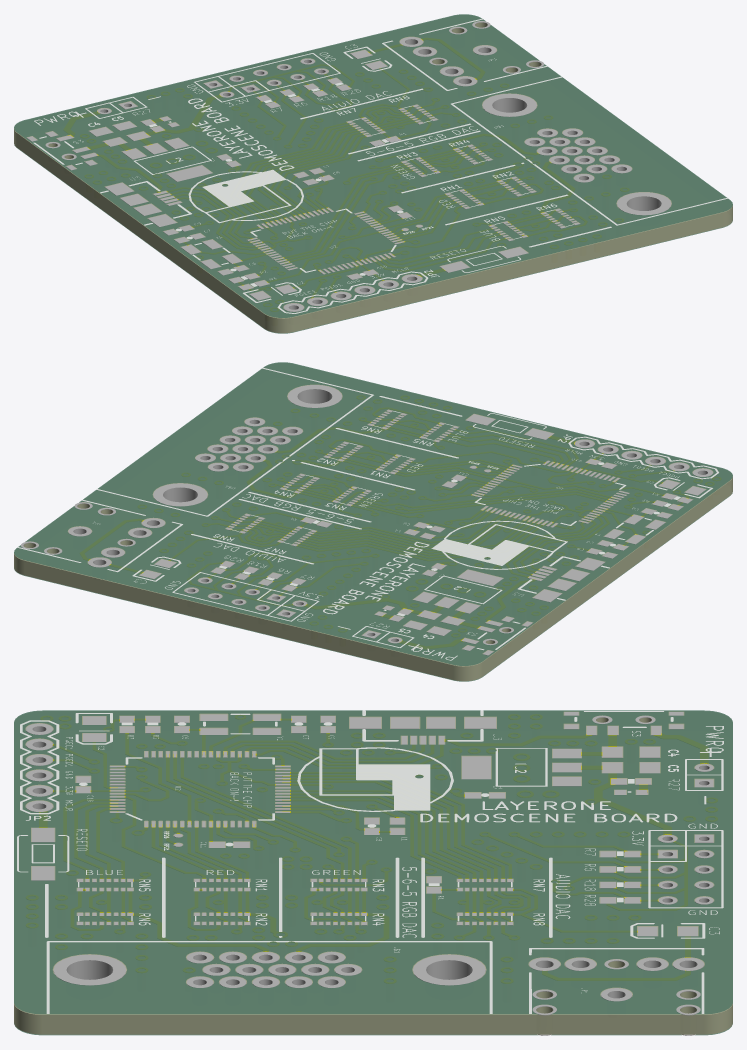
File: layerone-demoscene-demoboard.glb
The picture shows the model from 3 angles, top to bottom: view 1: azimuth 30°, elevation 25°; view 2: azimuth 150°, elevation 25°; view 3: azimuth 270°, elevation 25°; orthographic projection. The views are drawn at different scales.
Parts seen in each view (by area): view 1: =>[0:1:1:7], =>[0:1:1:9], =>[0:1:1:2], =>[0:1:1:5]; view 2: =>[0:1:1:7], =>[0:1:1:9], =>[0:1:1:2], =>[0:1:1:5]; view 3: =>[0:1:1:7], =>[0:1:1:9], =>[0:1:1:2], =>[0:1:1:5].
Part boxes in pixels (bbox=[...]): =>[0:1:1:7]: bbox=[14, 14, 732, 333]; =>[0:1:1:9]: bbox=[14, 15, 732, 333]; =>[0:1:1:2]: bbox=[27, 21, 671, 311]; =>[0:1:1:5]: bbox=[33, 18, 728, 313]; =>[0:1:1:7]: bbox=[14, 362, 732, 681]; =>[0:1:1:9]: bbox=[14, 363, 732, 681]; =>[0:1:1:2]: bbox=[20, 385, 720, 655]; =>[0:1:1:5]: bbox=[17, 367, 718, 660]; =>[0:1:1:7]: bbox=[14, 710, 732, 1035]; =>[0:1:1:9]: bbox=[14, 711, 732, 1034]; =>[0:1:1:2]: bbox=[26, 712, 717, 1035]; =>[0:1:1:5]: bbox=[17, 710, 723, 1013].
Bounding box in the file's own units: 0.0501 × 0.00166 × 0.05.
4 materials, 4 textured.
